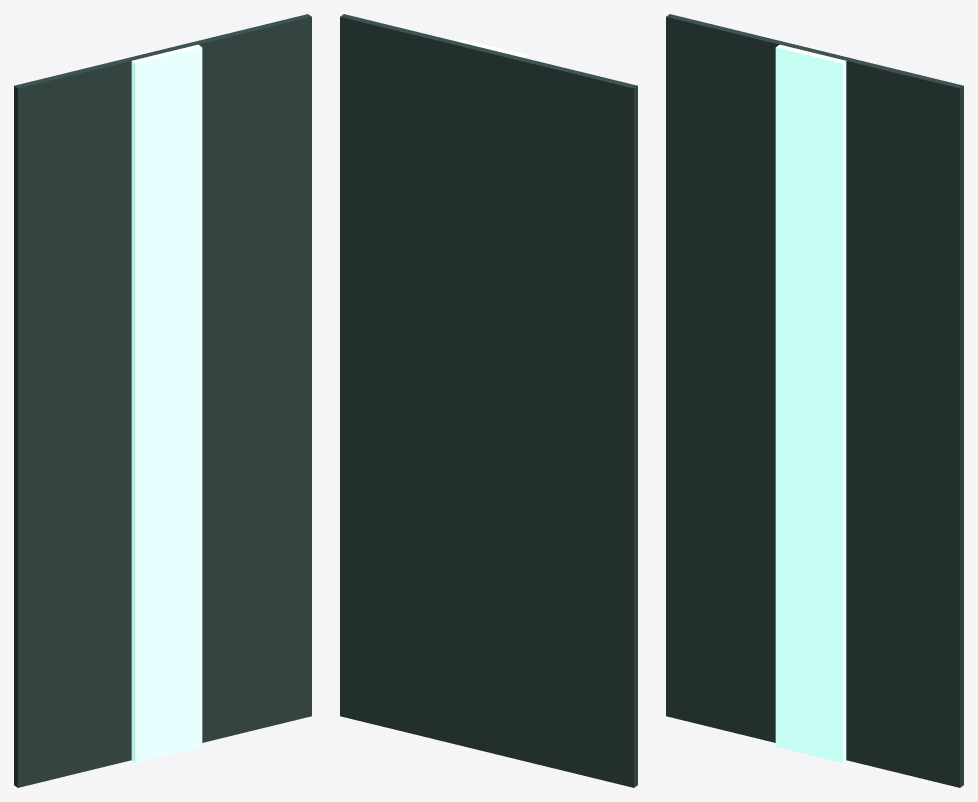
Rendered from Hall_Slit.gltf.
3 renders of one model, left to right at view 1: azimuth 30°, elevation 25°; view 2: azimuth 150°, elevation 25°; view 3: azimuth 330°, elevation 25°, orthographic.
Visible parts, largest first — view 1: Hall_Slit_baked; view 2: Hall_Slit_baked; view 3: Hall_Slit_baked.
Boxes of the visible parts, <box> form: Hall_Slit_baked: <box>14,14,311,787</box>; Hall_Slit_baked: <box>340,14,637,787</box>; Hall_Slit_baked: <box>666,14,963,787</box>.
Bounding box in the file's own units: 0.44 × 1 × 0.02.
